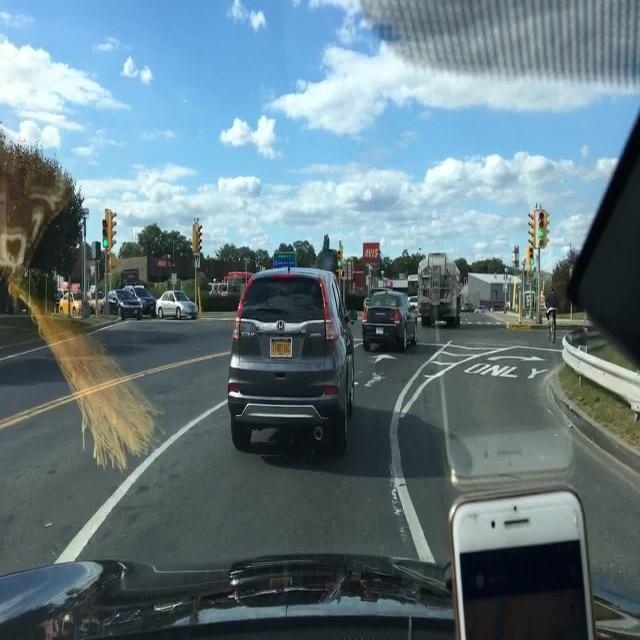normal: (202, 247, 379, 480)
